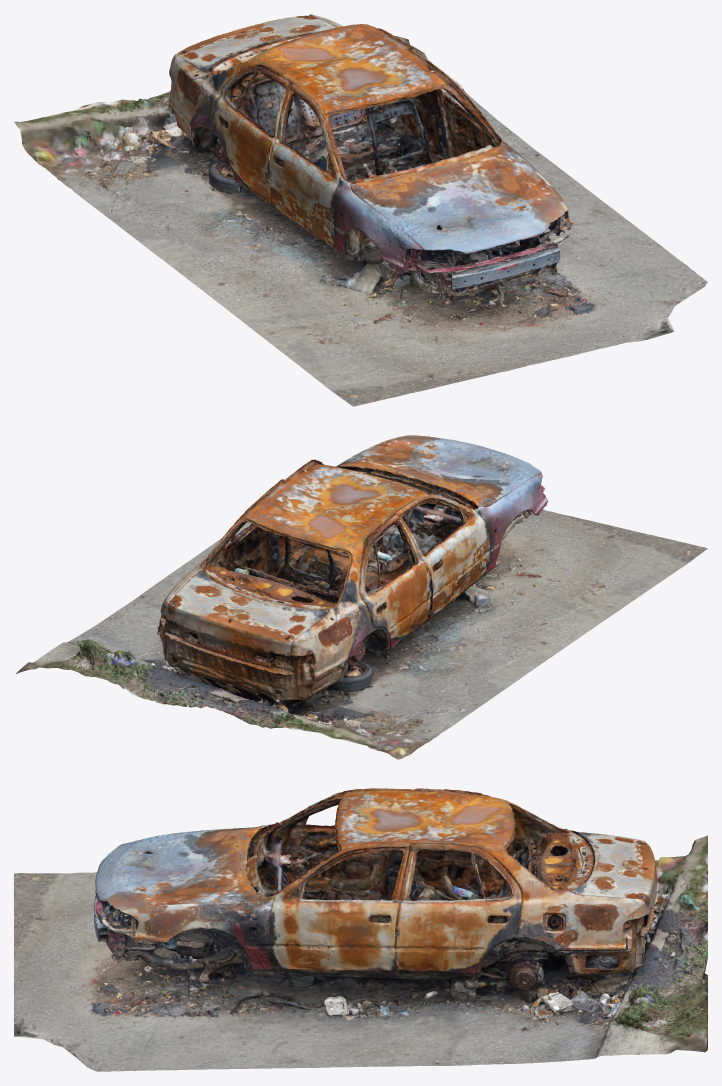
File: BurntCar-v1.glb
The picture shows the model from 3 angles, top to bottom: view 1: azimuth 30°, elevation 25°; view 2: azimuth 150°, elevation 25°; view 3: azimuth 270°, elevation 25°; orthographic projection. The views are drawn at different scales.
Bounding box in the file's own units: 3.94 × 1.51 × 5.85.
Materials: 1 (1 with a texture image).
